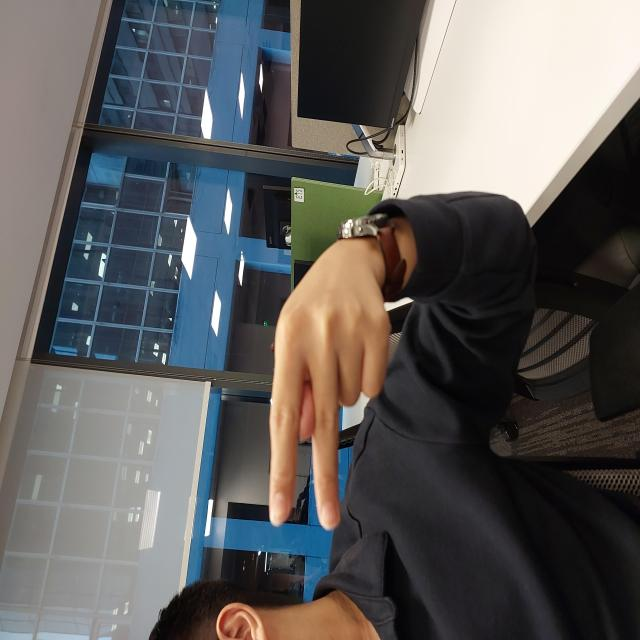K: (110, 265, 396, 390)
